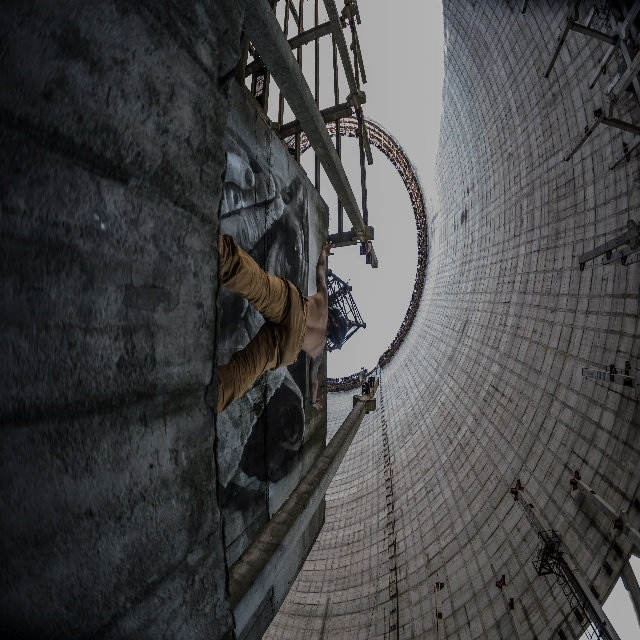Sin_guantes: (322, 239, 335, 256), (311, 395, 323, 410)
